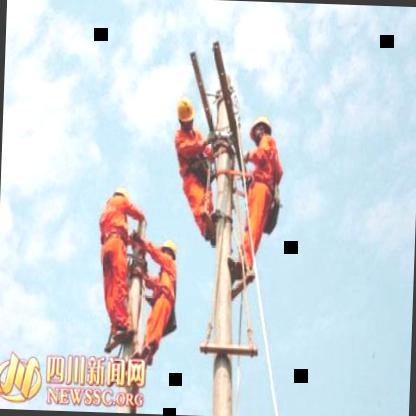helmet: (246, 111, 276, 147), (172, 92, 198, 130), (154, 238, 178, 262)
